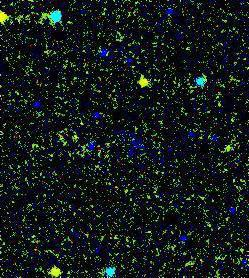star: (126, 66, 156, 96)
